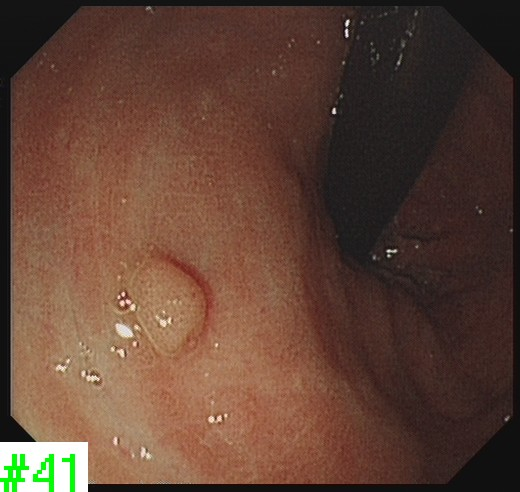others: (125, 255, 210, 358)
